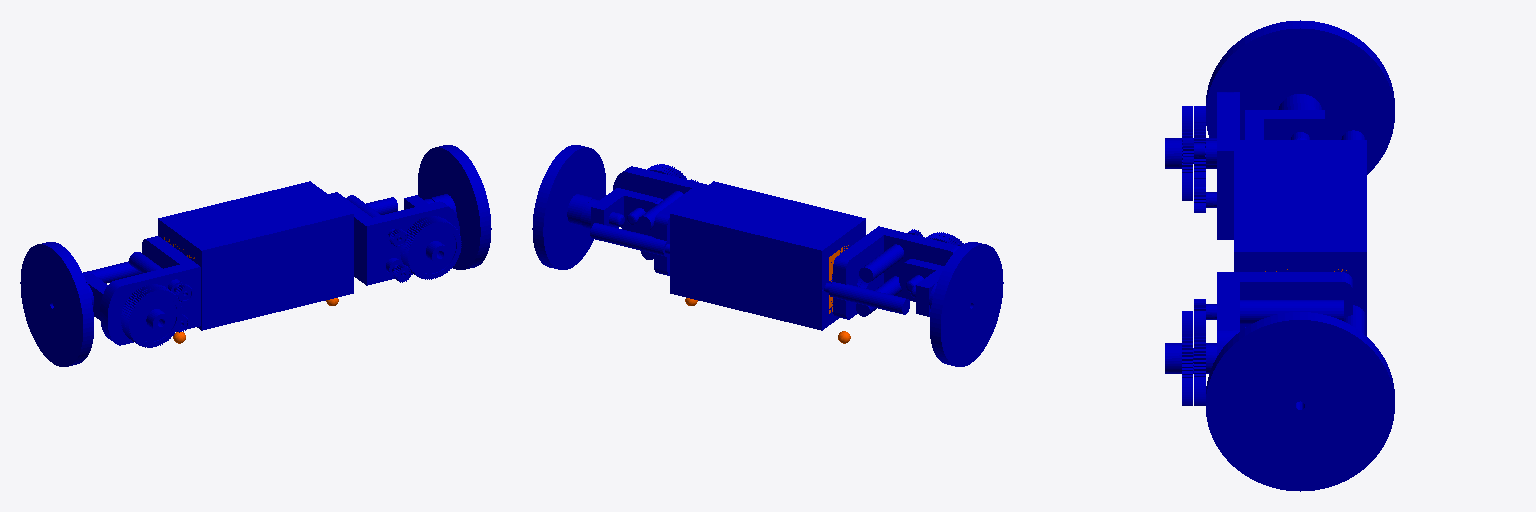
The robot description file, URDF, robot "mrs":
<?xml version="1.0" ?>
<!-- =================================================================================== -->
<!-- |    This document was autogenerated by xacro from W2M.xacro                      | -->
<!-- |    EDITING THIS FILE BY HAND IS NOT RECOMMENDED                                 | -->
<!-- =================================================================================== -->
<robot name="mrs" xmlns:xacro="http://www.ros.org/wiki/xacro">
  <!-- Constants for robot -->
  <!-- Import all Gazebo-customization elements, including Gazebo colors -->
  <material name="Blue">
    <color rgba="0.0 0.0 0.8 1.0"/>
  </material>
  <material name="Grey">
    <color rgba="0.7 0.7 0.7 1.0"/>
  </material>
  <material name="Grey2">
    <color rgba="0.9 0.9 0.9 1.0"/>
  </material>
  <material name="Red">
    <color rgba="0.8 0.0 0.0 1.0"/>
  </material>
  <material name="White">
    <color rgba="1.0 1.0 1.0 1.0"/>
  </material>
  <material name="Black">
    <color rgba="0.1 0.1 0.1 1.0"/>
  </material>
  <material name="LightGrey">
    <color rgba="0.6 0.6 0.6 1.0"/>
  </material>
  <material name="Orange">
    <color rgba="1.0 0.4 0.0 1.0"/>
  </material>
  <material name="DarkGrey">
    <color rgba="0.3 0.3 0.3 1.0"/>
  </material>
  <material name="Green">
    <color rgba="0.0 1.0 0.0 1.0"/>
  </material>
  <material name="Caster">
    <texture filename="package://pr2_description/materials/textures/pr2_caster_texture.png"/>
  </material>
  <material name="Wheel_l">
    <texture filename="package://pr2_description/materials/textures/pr2_wheel_left.png"/>
  </material>
  <material name="Wheel_r">
    <texture filename="package://pr2_description/materials/textures/pr2_wheel_right.png"/>
  </material>
  <material name="RollLinks">
    <texture filename="package://pr2_description/materials/textures/pr2_wheel_left.png"/>
  </material>
  <material name="blue">
    <color rgba="0.0 0.0 0.8 1.0"/>
  </material>
  <material name="green">
    <color rgba="0.0 0.8 0.0 1.0"/>
  </material>
  <material name="grey">
    <color rgba="0.2 0.2 0.2 1.0"/>
  </material>
  <material name="orange">
    <color rgba="1.0 0.423529411765 0.0392156862745 1.0"/>
  </material>
  <material name="brown">
    <color rgba="0.870588235294 0.811764705882 0.764705882353 1.0"/>
  </material>
  <material name="red">
    <color rgba="0.8 0.0 0.0 1.0"/>
  </material>
  <material name="white">
    <color rgba="1.0 1.0 1.0 1.0"/>
  </material>
  <!-- Used for fixing robot to Gazebo 'base_link' -->
  <link name="world">
    <inertial>
      <mass value="0.1"/>
      <origin rpy="0 0 0" xyz="0 0 0"/>
      <inertia ixx="1.0" ixy="0.0" ixz="0.0" iyy="1.0" iyz="0.0" izz="1.0"/>
    </inertial>
    <visual>
      <origin rpy="0 0 0" xyz="0 0 0"/>
      <geometry>
        <box size="0.001 0.001 0.001"/>
      </geometry>
      <material name="Red"/>
    </visual>
    <collision>
      <origin rpy="0 0 0" xyz="0 0 0"/>
      <geometry>
        <box size="0.001 0.001 0.001"/>
      </geometry>
    </collision>
  </link>
  <joint name="fixed" type="fixed">
    <axis xyz="1 0 0 "/>
    <origin rpy="0 -1.57079632679 0" xyz="0 0 0.05"/>
    <!-- <origin xyz="0 0 0.1" rpy="0 0 0" /> -->
    <parent link="world"/>
    <child link="base_footprint"/>
  </joint>
  <!-- Fictitious Base Link is a fictitious link(frame) that is on the ground below 
    base_link origin, Dummy link-->
  <link name="base_footprint">
    <mass value="1.0"/>
    <visual>
      <geometry>
        <box size="0.07 0.07 0.14"/>
      </geometry>
      <material name="Blue">
        </material>
    </visual>
    <collision>
      <geometry>
        <box size="0.05 0.05 0.04"/>
      </geometry>
    </collision>
    <inertial>
      <mass value="0.15"/>
      <!--
            Inertia of a cuboid - ml2/6
-->
      <inertia ixx="0.0008166" ixy="0.0" ixz="0.0" iyy="0.0008166" iyz="0.0" izz="0.0008166"/>
    </inertial>
  </link>
  <gazebo reference="base_footprint">
    <material>Gazebo/Blue</material>
    <selfCollide>false</selfCollide>
  </gazebo>
  <link name="1_W1_j1_link">
    <visual>
      <!--xacro:insert_block name="ori" /-->
      <geometry>
        <mesh filename="package://mrs_description/meshes/J1.dae"/>
      </geometry>
      <material name="Blue"/>
    </visual>
    <collision>
      <!--xacro:insert_block name="ori" /-->
      <geometry>
        <mesh filename="package://mrs_description/meshes/J1.dae"/>
      </geometry>
    </collision>
    <inertial>
      <origin rpy="0 0 0" xyz="-0.024 -0.021 0"/>
      <mass value="0.137"/>
      <inertia ixx="1.043e-4" ixy="4.237e-5" ixz="8.843e-7" iyy="1.259e-5" iyz="-2.329e-8" izz="1.759e-4"/>
    </inertial>
  </link>
  <link name="1_W1_j2_link">
    <visual>
      <!--xacro:insert_block name="ori" /-->
      <geometry>
        <mesh filename="package://mrs_description/meshes/J2.dae"/>
      </geometry>
      <material name="Blue"/>
    </visual>
    <inertial>
      <origin rpy="0 0 0" xyz="1.068e-4 0 4.22e-4"/>
      <mass value="0.01"/>
      <inertia ixx="1.34e-6" ixy="2.119e-11" ixz="7.365e-11" iyy="1.326e-6" iyz="2.329e-12" izz="2.006e-6"/>
    </inertial>
  </link>
  <link name="1_W1_j3_link">
    <visual>
      <!--xacro:insert_block name="ori" /-->
      <geometry>
        <mesh filename="package://mrs_description/meshes/J3.dae"/>
      </geometry>
      <material name="Blue"/>
    </visual>
    <inertial>
      <origin rpy="0 0 0" xyz="-5.121e-4 0.014 -0.012"/>
      <mass value="0.027"/>
      <inertia ixx="9.335e-6" ixy="1.198e-8" ixz="5.264e-9" iyy="5.505e-6" iyz="-2.699e-6" izz="6.39e-6"/>
    </inertial>
  </link>
  <link name="1_W1_w1_link">
    <visual>
      <!--xacro:insert_block name="ori" /-->
      <geometry>
        <mesh filename="package://mrs_description/meshes/WR1.dae"/>
      </geometry>
      <material name="Blue"/>
    </visual>
    <collision>
      <!--xacro:insert_block name="ori" /-->
      <geometry>
        <mesh filename="package://mrs_description/meshes/WR1.dae"/>
      </geometry>
    </collision>
    <inertial>
      <origin rpy="0 0 0" xyz="-0.003 0 0"/>
      <mass value="0.089"/>
      <inertia ixx="1.036e-4" ixy="0" ixz="0" iyy="5.359e-5" iyz="0" izz="5.359e-5"/>
    </inertial>
  </link>
  <joint name="1_W1_j3" type="fixed">
    <child link="1_W1_w1_link"/>
    <parent link="1_W1_j3_link"/>
    <axis xyz="1 0 0"/>
    <origin rpy="0 0 -1.57079632679" xyz="0 0.05 0"/>
  </joint>
  <joint name="1_W1_j2" type="fixed">
    <child link="1_W1_j3_link"/>
    <parent link="1_W1_j1_link"/>
    <axis xyz="0 0 1 "/>
    <origin rpy="0 1.57079632679 0" xyz="0 0 0"/>
    <!--
    <limit lower="${-pi/2}" upper="${pi/2}" effort="${max_effort}"
      velocity="${max_velocity}" />
    <dynamics damping="${j2_damping}" />
-->
  </joint>
  <joint name="1_W1_j2_fixed" type="fixed">
    <child link="1_W1_j1_link"/>
    <parent link="1_W1_j2_link"/>
    <axis xyz="1 0 0 "/>
    <origin rpy="1.57079632679 0 1.57079632679" xyz="0 0 0.058"/>
  </joint>
  <joint name="1_W1_j1" type="fixed">
    <child link="1_W1_j2_link"/>
    <parent link="W1_PCmodule"/>
    <!--
    <axis xyz="1 0 0 " />
-->
    <origin rpy="0 1.57079632679 0" xyz="0.035 0 0"/>
  </joint>
  <gazebo reference="1_W1_j1_link">
    <material>Gazebo/Grey</material>
    <selfCollide>false</selfCollide>
  </gazebo>
  <gazebo reference="1_W1_j2_link">
    <material>Gazebo/Black</material>
    <selfCollide>false</selfCollide>
  </gazebo>
  <gazebo reference="1_W1_j3_link">
    <material>Gazebo/FlatBlack</material>
    <selfCollide>false</selfCollide>
  </gazebo>
  <gazebo reference="1_W1_w1_link">
    <material>Gazebo/FlatBlack</material>
    <selfCollide>false</selfCollide>
  </gazebo>
  <link name="W1_PCmodule">
    <visual>
      <geometry>
        <box size="0.07 0.05 0.05"/>
      </geometry>
      <material name="Orange">
                </material>
    </visual>
    <inertial>
      <mass value="0.15"/>
      <!--
            Inertia of a cuboid - ml2/6
-->
      <inertia ixx="0.0008166" ixy="0.0" ixz="0.0" iyy="0.0008166" iyz="0.0" izz="0.0008166"/>
    </inertial>
  </link>
  <joint name="W1_mbase_jointW1" type="fixed">
    <origin rpy="0 1.57079632679 0" xyz="0 0 -0.035"/>
    <child link="W1_PCmodule"/>
    <parent link="base_footprint"/>
  </joint>
  <gazebo reference="W1_PCmodule">
    <material>Gazebo/Orange</material>
    <selfCollide>false</selfCollide>
  </gazebo>
  <link name="W2_PCmodule">
    <visual>
      <geometry>
        <box size="0.07 0.05 0.05"/>
      </geometry>
      <material name="Orange">
                </material>
    </visual>
    <inertial>
      <mass value="0.15"/>
      <!--
            Inertia of a cuboid - ml2/6
-->
      <inertia ixx="0.0008166" ixy="0.0" ixz="0.0" iyy="0.0008166" iyz="0.0" izz="0.0008166"/>
    </inertial>
  </link>
  <joint name="W2_mbase_jointW1" type="fixed">
    <origin rpy="0 -1.57079632679 0" xyz="0 0 0.035"/>
    <child link="W2_PCmodule"/>
    <parent link="base_footprint"/>
  </joint>
  <gazebo reference="W2_PCmodule">
    <material>Gazebo/Orange</material>
    <selfCollide>false</selfCollide>
  </gazebo>
  <link name="2_W1_j1_link">
    <visual>
      <!--xacro:insert_block name="ori" /-->
      <geometry>
        <mesh filename="package://mrs_description/meshes/J1.dae"/>
      </geometry>
      <material name="Blue"/>
    </visual>
    <collision>
      <!--xacro:insert_block name="ori" /-->
      <geometry>
        <mesh filename="package://mrs_description/meshes/J1.dae"/>
      </geometry>
    </collision>
    <inertial>
      <origin rpy="0 0 0" xyz="-0.024 -0.021 0"/>
      <mass value="0.137"/>
      <inertia ixx="1.043e-4" ixy="4.237e-5" ixz="8.843e-7" iyy="1.259e-5" iyz="-2.329e-8" izz="1.759e-4"/>
    </inertial>
  </link>
  <link name="2_W1_j2_link">
    <visual>
      <!--xacro:insert_block name="ori" /-->
      <geometry>
        <mesh filename="package://mrs_description/meshes/J2.dae"/>
      </geometry>
      <material name="Blue"/>
    </visual>
    <inertial>
      <origin rpy="0 0 0" xyz="1.068e-4 0 4.22e-4"/>
      <mass value="0.01"/>
      <inertia ixx="1.34e-6" ixy="2.119e-11" ixz="7.365e-11" iyy="1.326e-6" iyz="2.329e-12" izz="2.006e-6"/>
    </inertial>
  </link>
  <link name="2_W1_j3_link">
    <visual>
      <!--xacro:insert_block name="ori" /-->
      <geometry>
        <mesh filename="package://mrs_description/meshes/J3.dae"/>
      </geometry>
      <material name="Blue"/>
    </visual>
    <inertial>
      <origin rpy="0 0 0" xyz="-5.121e-4 0.014 -0.012"/>
      <mass value="0.027"/>
      <inertia ixx="9.335e-6" ixy="1.198e-8" ixz="5.264e-9" iyy="5.505e-6" iyz="-2.699e-6" izz="6.39e-6"/>
    </inertial>
  </link>
  <link name="2_W1_w1_link">
    <visual>
      <!--xacro:insert_block name="ori" /-->
      <geometry>
        <mesh filename="package://mrs_description/meshes/WR1.dae"/>
      </geometry>
      <material name="Blue"/>
    </visual>
    <collision>
      <!--xacro:insert_block name="ori" /-->
      <geometry>
        <mesh filename="package://mrs_description/meshes/WR1.dae"/>
      </geometry>
    </collision>
    <inertial>
      <origin rpy="0 0 0" xyz="-0.003 0 0"/>
      <mass value="0.089"/>
      <inertia ixx="1.036e-4" ixy="0" ixz="0" iyy="5.359e-5" iyz="0" izz="5.359e-5"/>
    </inertial>
  </link>
  <joint name="2_W1_j3" type="fixed">
    <child link="2_W1_w1_link"/>
    <parent link="2_W1_j3_link"/>
    <axis xyz="1 0 0"/>
    <origin rpy="0 0 -1.57079632679" xyz="0 0.05 0"/>
  </joint>
  <joint name="2_W1_j2" type="fixed">
    <child link="2_W1_j3_link"/>
    <parent link="2_W1_j1_link"/>
    <axis xyz="0 0 1 "/>
    <origin rpy="0 1.57079632679 0" xyz="0 0 0"/>
    <!--
    <limit lower="${-pi/2}" upper="${pi/2}" effort="${max_effort}"
      velocity="${max_velocity}" />
    <dynamics damping="${j2_damping}" />
-->
  </joint>
  <joint name="2_W1_j2_fixed" type="fixed">
    <child link="2_W1_j1_link"/>
    <parent link="2_W1_j2_link"/>
    <axis xyz="1 0 0 "/>
    <origin rpy="1.57079632679 0 1.57079632679" xyz="0 0 0.058"/>
  </joint>
  <joint name="2_W1_j1" type="fixed">
    <child link="2_W1_j2_link"/>
    <parent link="W2_PCmodule"/>
    <!--
    <axis xyz="1 0 0 " />
-->
    <origin rpy="0 1.57079632679 0" xyz="0.035 0 0"/>
  </joint>
  <gazebo reference="2_W1_j1_link">
    <material>Gazebo/Grey</material>
    <selfCollide>false</selfCollide>
  </gazebo>
  <gazebo reference="2_W1_j2_link">
    <material>Gazebo/Black</material>
    <selfCollide>false</selfCollide>
  </gazebo>
  <gazebo reference="2_W1_j3_link">
    <material>Gazebo/FlatBlack</material>
    <selfCollide>false</selfCollide>
  </gazebo>
  <gazebo reference="2_W1_w1_link">
    <material>Gazebo/FlatBlack</material>
    <selfCollide>false</selfCollide>
  </gazebo>
  <!--
  <xacro:Ball_bearing mass="0.1" instance="1" dia="0.01" x="-0.045" y="0.0" z="-0.2" parent="base_footprint"/>
  <xacro:Ball_bearing mass="0.1" instance="2" dia="0.01" x="-0.045" y="0.0" z="0.2" parent="base_footprint"/>
-->
  <joint name="bearing_joint_1" type="fixed">
    <origin rpy="0 0 0" xyz="-0.055 0 -0.07"/>
    <parent link="base_footprint"/>
    <child link="bearing_link1_1"/>
  </joint>
  <link name="bearing_link1_1">
    <inertial>
      <mass value="0.1"/>
      <origin xyz="0 0 0"/>
      <inertia ixx="1e-06" ixy="0" ixz="0" iyy="1e-06" iyz="0" izz="1e-06"/>
    </inertial>
  </link>
  <link name="bearing_link2_1">
    <inertial>
      <mass value="0.1"/>
      <origin xyz="0 0 0"/>
      <inertia ixx="1e-06" ixy="0" ixz="0" iyy="1e-06" iyz="0" izz="1e-06"/>
    </inertial>
    <visual>
      <origin rpy="0 0 0" xyz="0 0 0"/>
      <geometry>
        <sphere radius="0.005"/>
      </geometry>
      <material name="Orange"/>
    </visual>
    <collision>
      <origin rpy="0 0 0" xyz="0 0 0"/>
      <geometry>
        <sphere radius="0.005"/>
      </geometry>
      <contact_coefficients>
        <mu>0.0</mu>
      </contact_coefficients>
    </collision>
  </link>
  <joint name="bearing_joint2_1" type="fixed">
    <origin rpy="0 0 0" xyz="0 0 0"/>
    <parent link="bearing_link1_1"/>
    <child link="bearing_link2_1"/>
  </joint>
  <gazebo reference="bearing_link1_1">
    <material>Gazebo/Black</material>
    <selfCollide>false</selfCollide>
  </gazebo>
  <gazebo reference="bearing_link2_1">
    <material>Gazebo/Black</material>
    <selfCollide>false</selfCollide>
  </gazebo>
  <joint name="bearing_joint_2" type="fixed">
    <origin rpy="0 0 0" xyz="-0.055 0 0.07"/>
    <parent link="base_footprint"/>
    <child link="bearing_link1_2"/>
  </joint>
  <link name="bearing_link1_2">
    <inertial>
      <mass value="0.1"/>
      <origin xyz="0 0 0"/>
      <inertia ixx="1e-06" ixy="0" ixz="0" iyy="1e-06" iyz="0" izz="1e-06"/>
    </inertial>
  </link>
  <link name="bearing_link2_2">
    <inertial>
      <mass value="0.1"/>
      <origin xyz="0 0 0"/>
      <inertia ixx="1e-06" ixy="0" ixz="0" iyy="1e-06" iyz="0" izz="1e-06"/>
    </inertial>
    <visual>
      <origin rpy="0 0 0" xyz="0 0 0"/>
      <geometry>
        <sphere radius="0.005"/>
      </geometry>
      <material name="Orange"/>
    </visual>
    <collision>
      <origin rpy="0 0 0" xyz="0 0 0"/>
      <geometry>
        <sphere radius="0.005"/>
      </geometry>
      <contact_coefficients>
        <mu>0.0</mu>
      </contact_coefficients>
    </collision>
  </link>
  <joint name="bearing_joint2_2" type="fixed">
    <origin rpy="0 0 0" xyz="0 0 0"/>
    <parent link="bearing_link1_2"/>
    <child link="bearing_link2_2"/>
  </joint>
  <gazebo reference="bearing_link1_2">
    <material>Gazebo/Black</material>
    <selfCollide>false</selfCollide>
  </gazebo>
  <gazebo reference="bearing_link2_2">
    <material>Gazebo/Black</material>
    <selfCollide>false</selfCollide>
  </gazebo>
  <gazebo>
    <plugin filename="libgazebo_ros_control.so" name="gazebo_ros_controller_manager">
      <robotNamespace>/mrs</robotNamespace>
    </plugin>
    <plugin filename="libgazebo_ros_planar_move.so" name="object_controller">
      <commandTopic>/mrs/cmd_vel</commandTopic>
      <odometryTopic>odom</odometryTopic>
      <odometryFrame>odom</odometryFrame>
      <odometryRate>20.0</odometryRate>
      <robotBaseFrame>base_footprint</robotBaseFrame>
    </plugin>
  </gazebo>
</robot>

--- What the picture shows (computed from the rendered views, not written in the file) ---
Views: 3 orthographic renders of the robot side by side, from view 1: azimuth 30°, elevation 25°; view 2: azimuth 150°, elevation 25°; view 3: azimuth 270°, elevation 25°.
Robot: mrs — 16 links, 15 joints (15 fixed); root link world; default pose: every joint at zero.
Visible links, largest first — view 1: base_footprint, 2_W1_j1_link, 1_W1_j1_link, 2_W1_w1_link, 1_W1_w1_link; view 2: base_footprint, 2_W1_j1_link, 2_W1_w1_link, 1_W1_w1_link, 1_W1_j1_link, 1_W1_j3_link, 2_W1_j3_link; view 3: 1_W1_w1_link, base_footprint, 2_W1_w1_link, 1_W1_j1_link, 2_W1_j1_link, 2_W1_j3_link.
Boxes of the visible links, x1,y1,x2,y2 form: base_footprint: [158, 181, 353, 330]; 2_W1_j1_link: [83, 236, 200, 347]; 1_W1_j1_link: [328, 192, 461, 285]; 2_W1_w1_link: [20, 242, 93, 366]; 1_W1_w1_link: [418, 145, 491, 269]; base_footprint: [670, 181, 865, 330]; 2_W1_j1_link: [822, 226, 963, 319]; 2_W1_w1_link: [930, 242, 1003, 366]; 1_W1_w1_link: [532, 145, 605, 269]; 1_W1_j1_link: [590, 164, 707, 275]; 1_W1_j3_link: [581, 188, 662, 230]; 2_W1_j3_link: [899, 259, 944, 316]; 1_W1_w1_link: [1206, 312, 1394, 491]; base_footprint: [1234, 140, 1366, 335]; 2_W1_w1_link: [1206, 20, 1394, 174]; 1_W1_j1_link: [1165, 272, 1365, 405]; 2_W1_j1_link: [1165, 92, 1364, 239]; 2_W1_j3_link: [1245, 103, 1324, 139].
Bounding box of the posed robot: 0.374 × 0.1214 × 0.11 m (x, y, z).
8 mesh visuals loaded from 4 distinct referenced files (4 Collada DAE).
